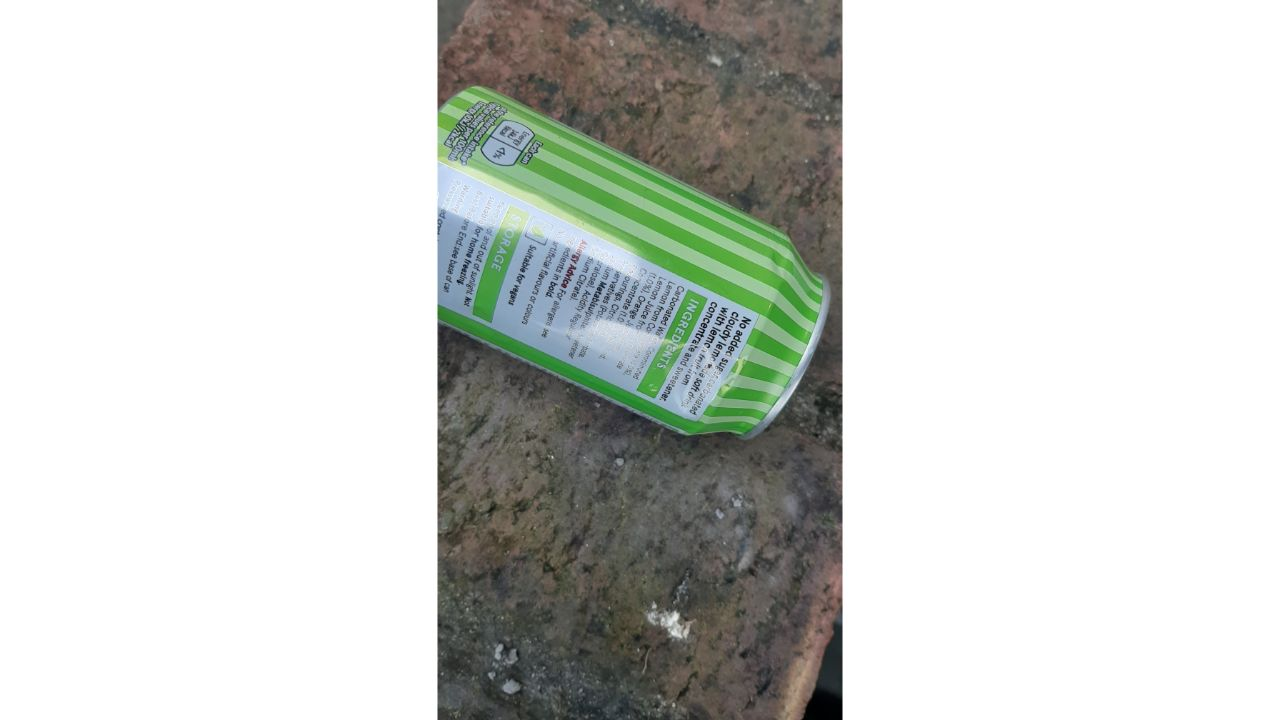Can: (437, 83, 834, 445)
